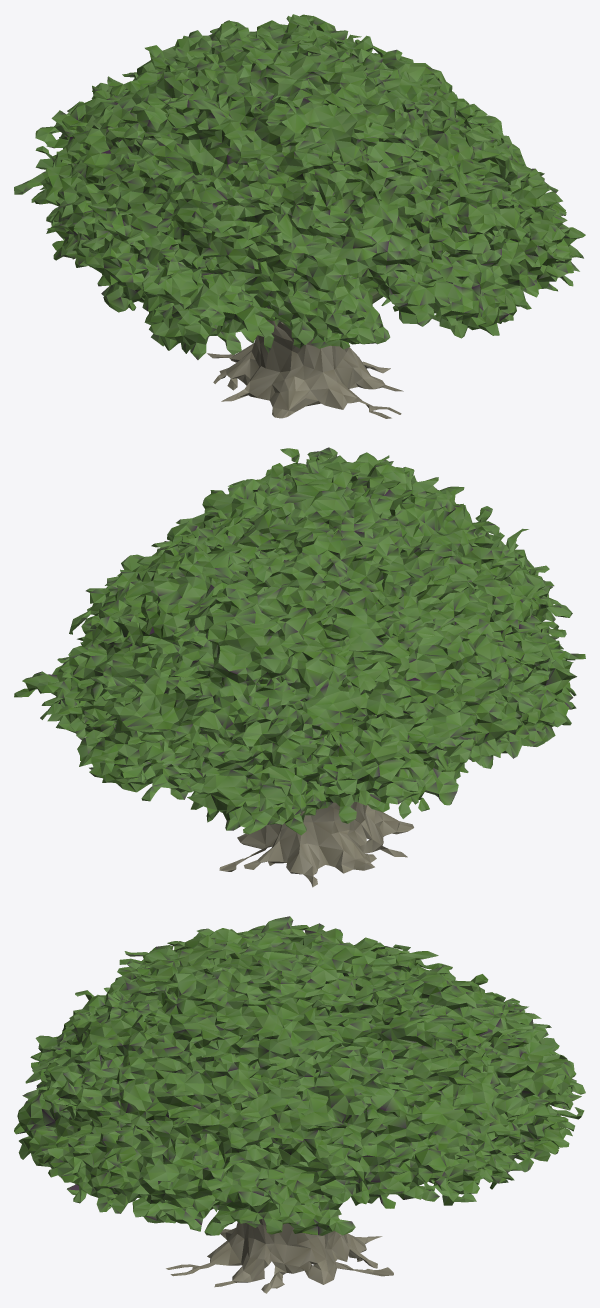
File: elder_tree.glb
3 renders of one model, top to bottom at view 1: azimuth 30°, elevation 25°; view 2: azimuth 150°, elevation 25°; view 3: azimuth 270°, elevation 25°, orthographic. The views are drawn at different scales.
Parts seen in each view (by area): view 1: world; view 2: world; view 3: world.
Boxes of the visible parts, left/top/right/bottom form: world: left=14, top=14, right=585, bottom=418; world: left=14, top=447, right=585, bottom=887; world: left=14, top=916, right=585, bottom=1293.
Bounding box in the file's own units: 5.76 × 4.2 × 6.94.
